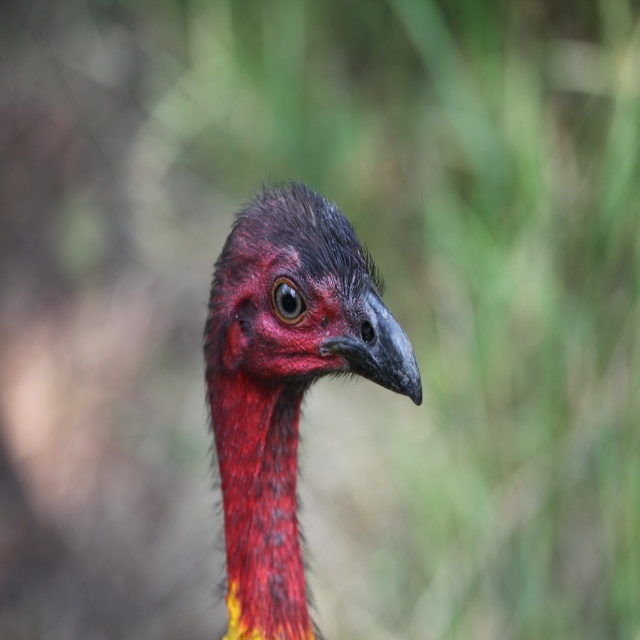Turkey: (202, 172, 422, 640)
